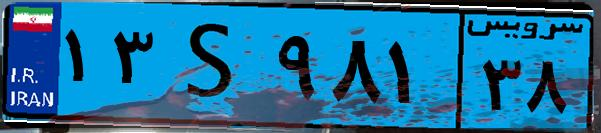1: (385, 28, 445, 110), (57, 26, 110, 100)
3: (475, 38, 525, 113), (110, 28, 158, 98)
8: (330, 28, 385, 110), (525, 38, 570, 115)
9: (270, 28, 330, 110)
S: (158, 12, 270, 120)
